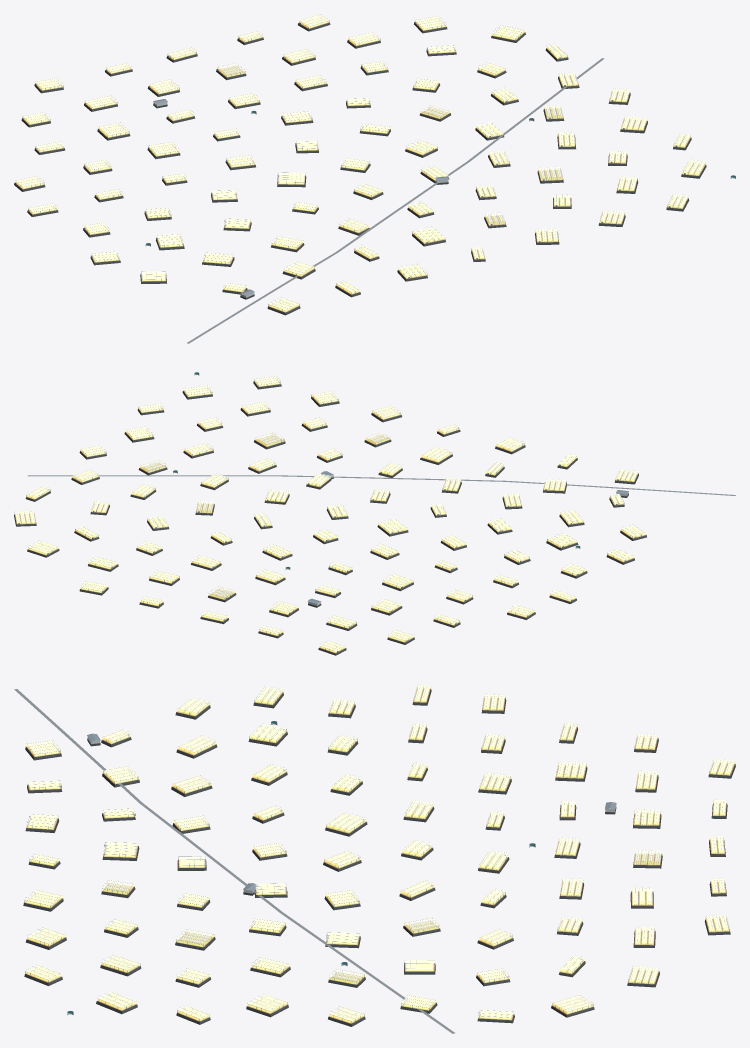
File: agri_w1_thai_phien_north_T_E02_N01.glb
3 views of the same model, one above another, from view 1: azimuth 30°, elevation 25°; view 2: azimuth 150°, elevation 25°; view 3: azimuth 270°, elevation 25° (orthographic). The views are drawn at different scales.
Parts seen in each view (by area): view 1: Greenhouse_PE_Film_Shell_Blend, Night_GrowLight_2700K_Core, Taluy_SplitStone_Foundation, Galvanized_Steel_Arches_And_Gutters, Terrace_Basalt_Soil_And_Lanes, Interior_Chrysanthemum_Flower_Beds, Farm_Concrete_Lane; view 2: Greenhouse_PE_Film_Shell_Blend, Night_GrowLight_2700K_Core, Taluy_SplitStone_Foundation, Galvanized_Steel_Arches_And_Gutters, Terrace_Basalt_Soil_And_Lanes, Interior_Chrysanthemum_Flower_Beds, Farm_Concrete_Lane; view 3: Greenhouse_PE_Film_Shell_Blend, Night_GrowLight_2700K_Core, Taluy_SplitStone_Foundation, Galvanized_Steel_Arches_And_Gutters, Terrace_Basalt_Soil_And_Lanes, Interior_Chrysanthemum_Flower_Beds, Farm_Concrete_Lane.
Boxes of the visible parts, x1,y1,x2,y2 form: Greenhouse_PE_Film_Shell_Blend: [15, 14, 705, 312]; Night_GrowLight_2700K_Core: [17, 15, 703, 311]; Taluy_SplitStone_Foundation: [14, 22, 706, 315]; Galvanized_Steel_Arches_And_Gutters: [15, 14, 705, 311]; Terrace_Basalt_Soil_And_Lanes: [16, 22, 705, 312]; Interior_Chrysanthemum_Flower_Beds: [17, 22, 704, 311]; Farm_Concrete_Lane: [187, 58, 604, 343]; Greenhouse_PE_Film_Shell_Blend: [14, 376, 646, 653]; Night_GrowLight_2700K_Core: [16, 376, 644, 651]; Taluy_SplitStone_Foundation: [14, 381, 646, 655]; Galvanized_Steel_Arches_And_Gutters: [14, 376, 643, 652]; Terrace_Basalt_Soil_And_Lanes: [14, 379, 646, 653]; Interior_Chrysanthemum_Flower_Beds: [15, 381, 644, 652]; Farm_Concrete_Lane: [27, 475, 735, 495]; Greenhouse_PE_Film_Shell_Blend: [24, 684, 734, 1023]; Night_GrowLight_2700K_Core: [27, 685, 733, 1021]; Taluy_SplitStone_Foundation: [23, 689, 735, 1026]; Galvanized_Steel_Arches_And_Gutters: [24, 686, 734, 1023]; Terrace_Basalt_Soil_And_Lanes: [24, 688, 735, 1023]; Interior_Chrysanthemum_Flower_Beds: [26, 689, 733, 1022]; Farm_Concrete_Lane: [14, 689, 455, 1033].
Bounding box in the file's own units: 1072 × 22.76 × 922.
9 materials, 2 textured.
